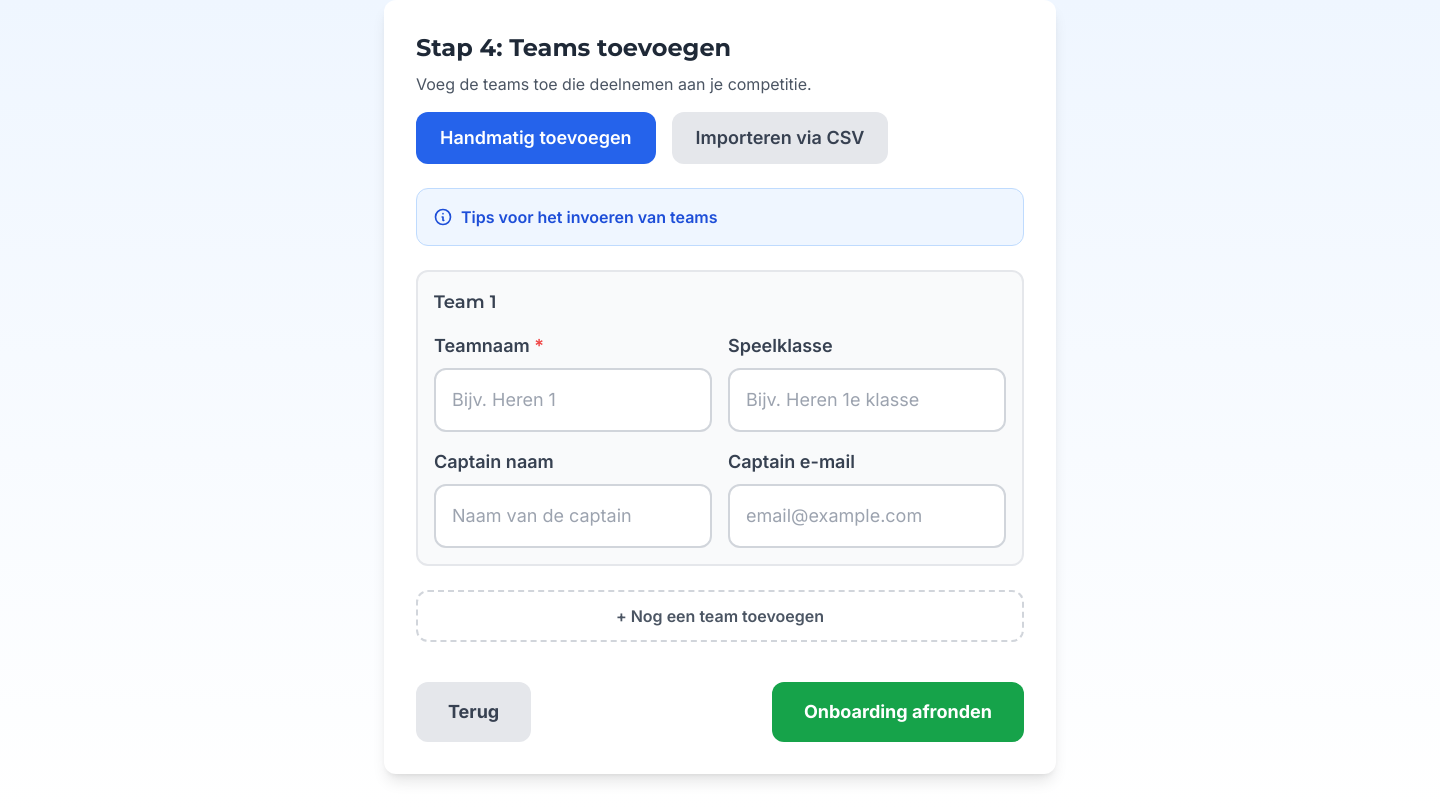
Test: TeamsStep › Validation › should show error when team name is empty on submit
Click the button "Onboarding afronden" at coordinates (898, 712), box [772,682,1024,742]
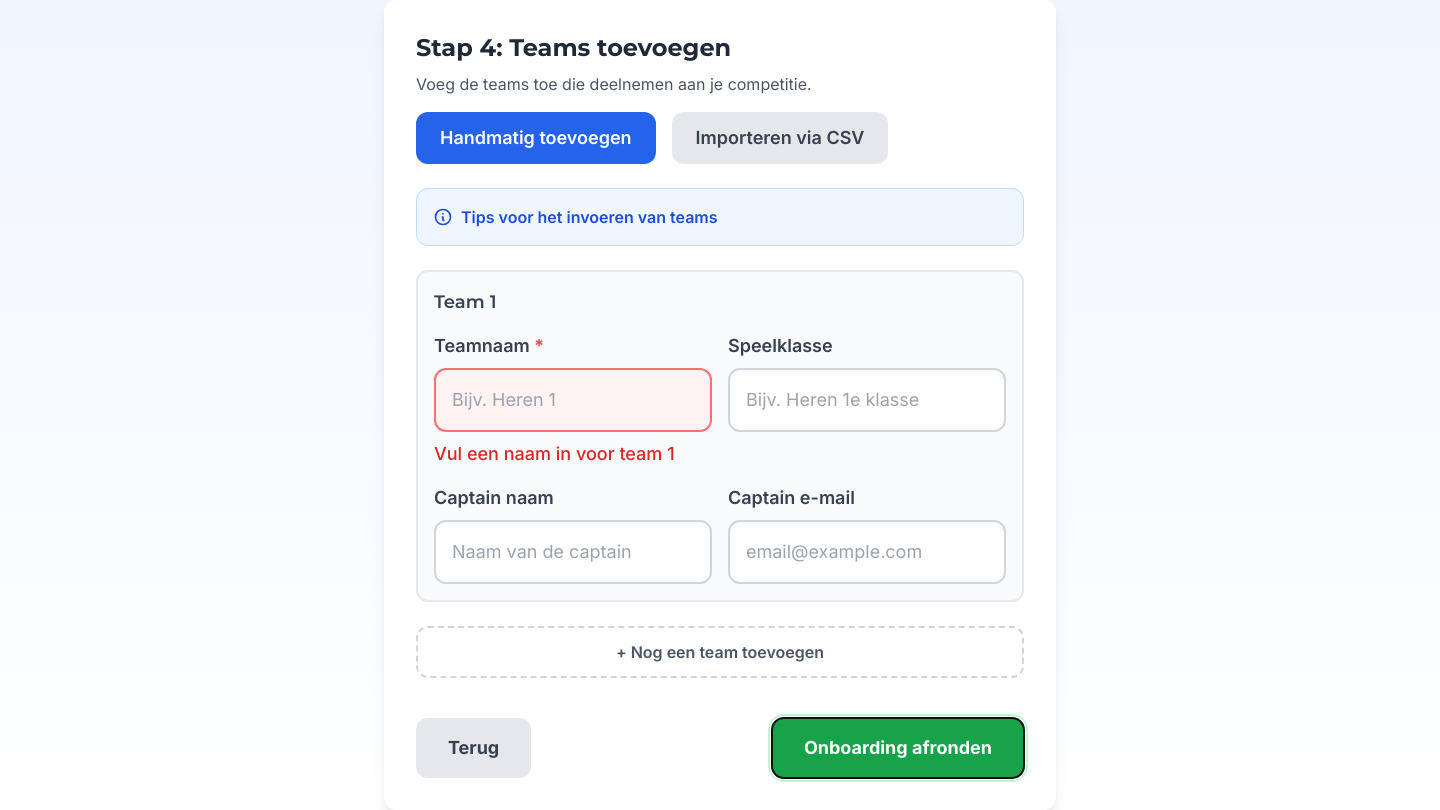
Now the text "Vul een naam in voor team 1" is shown, box [434,440,712,468]
